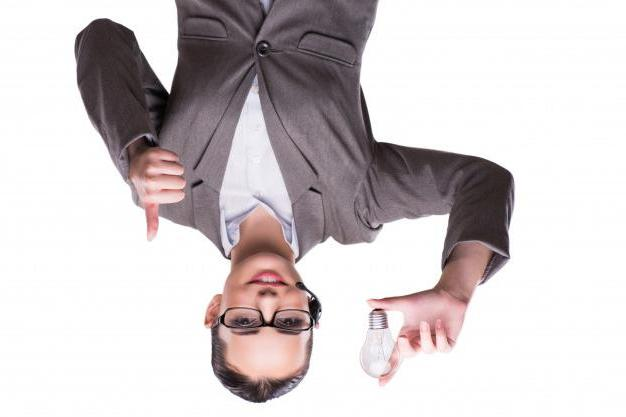thumbsdown: (144, 148, 187, 241)
